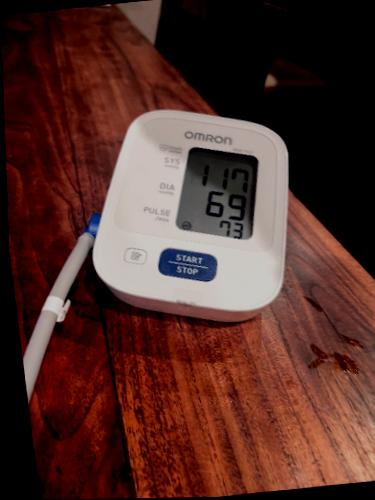bpm: (172, 142, 268, 243)
